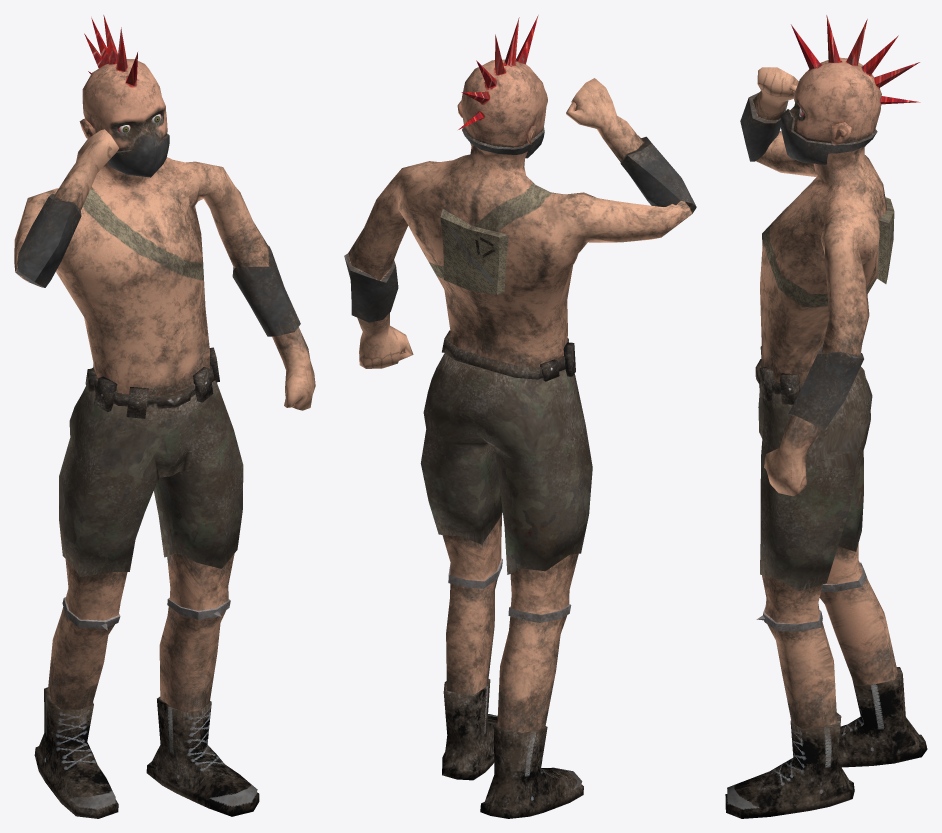
The model's file is Anim_perder_1_npc2.0026.obj.
The picture shows the model from 3 angles, left to right: view 1: azimuth 30°, elevation 25°; view 2: azimuth 150°, elevation 25°; view 3: azimuth 270°, elevation 25°; orthographic projection.
Parts seen in each view (by area): view 1: polySurface1; view 2: polySurface1; view 3: polySurface1.
Boxes of the visible parts, bbox=[...] form: polySurface1: bbox=[14, 15, 315, 818]; polySurface1: bbox=[344, 15, 696, 818]; polySurface1: bbox=[725, 15, 927, 818].
Size of the model in its own units: 4.37 by 10.16 by 2.44.
